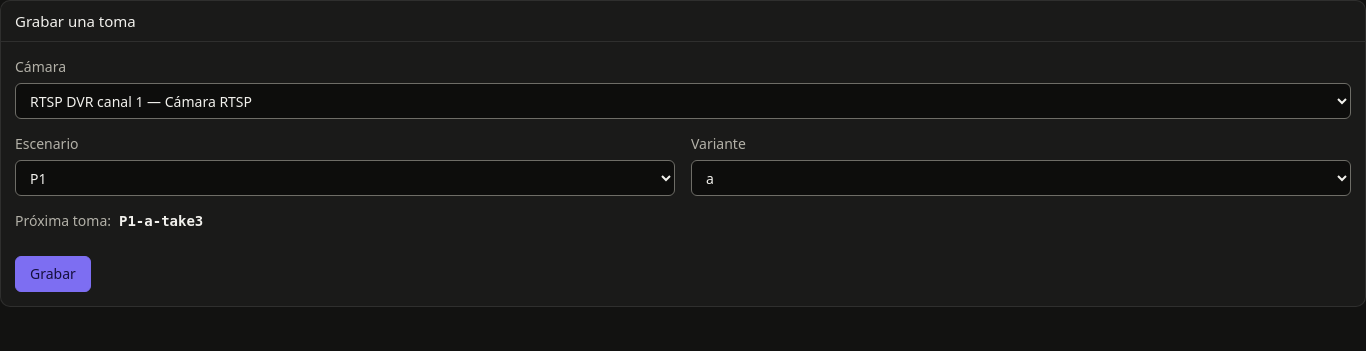
Test: RecordPanel › muestra el error del backend sin romper el panel
Expected: the text "P1-a-take3" is shown, [119,211,203,232]
Click the button "Grabar": (53, 274) [15,256,91,292]
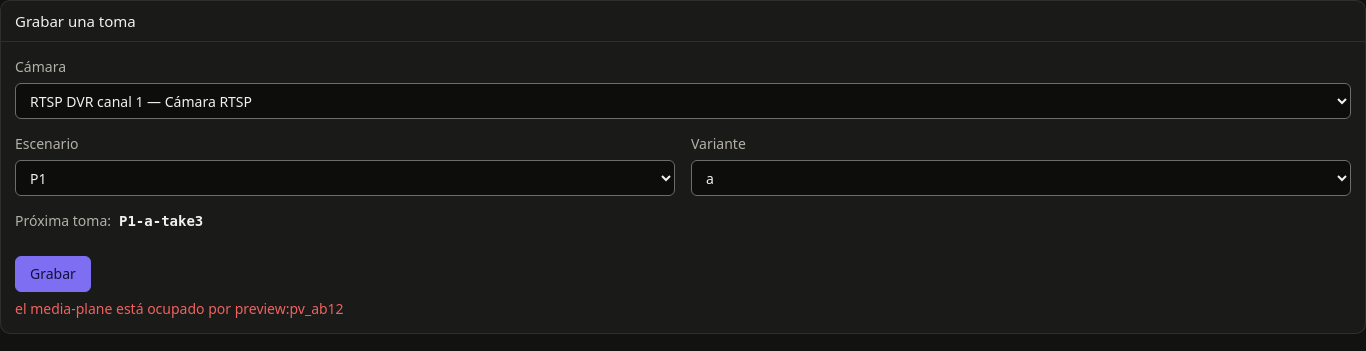
Expected: the text "el media-plane está ocupado por preview:pv_ab12" is shown, [15,299,344,318]
